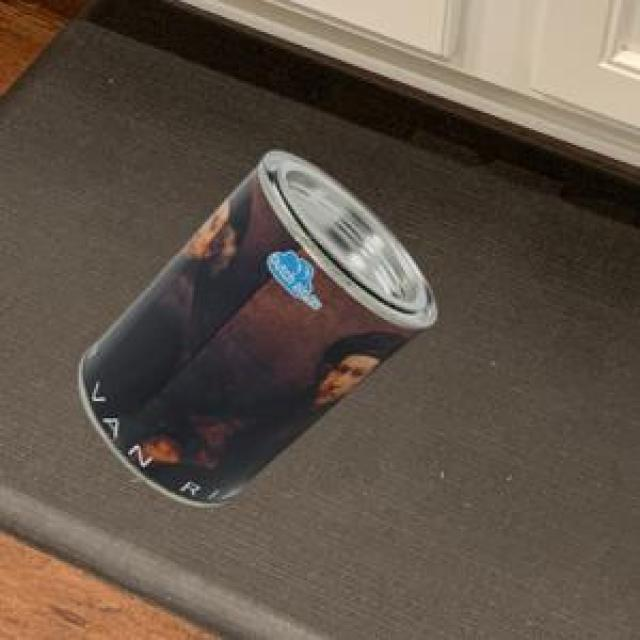logam: (76, 148, 434, 502)
